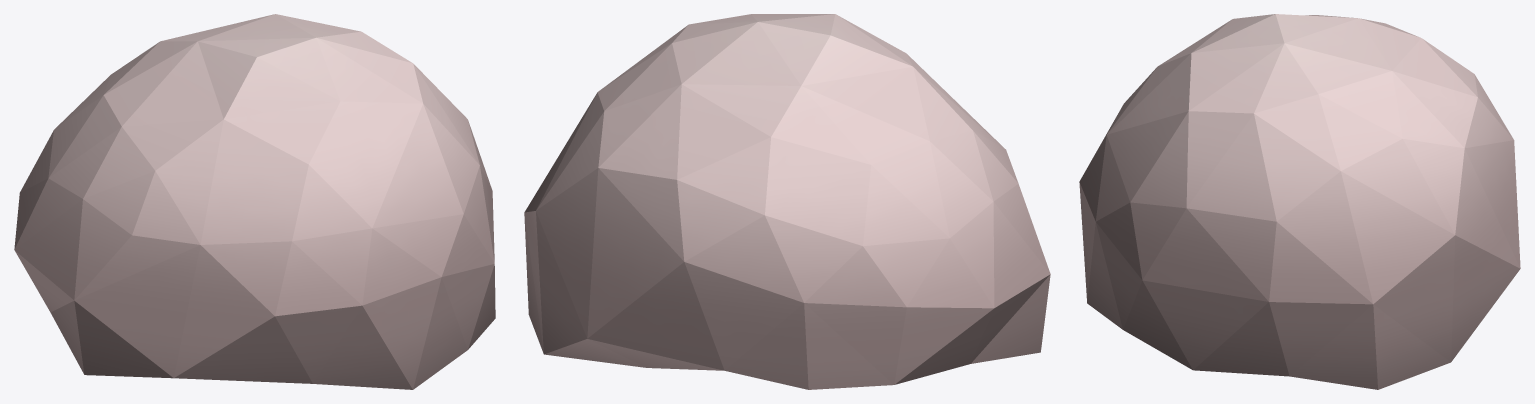
The model's file is Top_01_01.fbx.
The picture shows the model from 3 angles, left to right: view 1: azimuth 30°, elevation 25°; view 2: azimuth 150°, elevation 25°; view 3: azimuth 270°, elevation 25°; orthographic projection. The views are drawn at different scales.
Visible parts, largest first — view 1: Top_01; view 2: Top_01; view 3: Top_01.
Boxes of the visible parts, x1,y1,x2,y2 form: Top_01: (14, 14, 495, 389); Top_01: (524, 14, 1050, 389); Top_01: (1079, 14, 1520, 389).
Size of the model in its own units: 1.55 by 0.9564 by 1.42.
